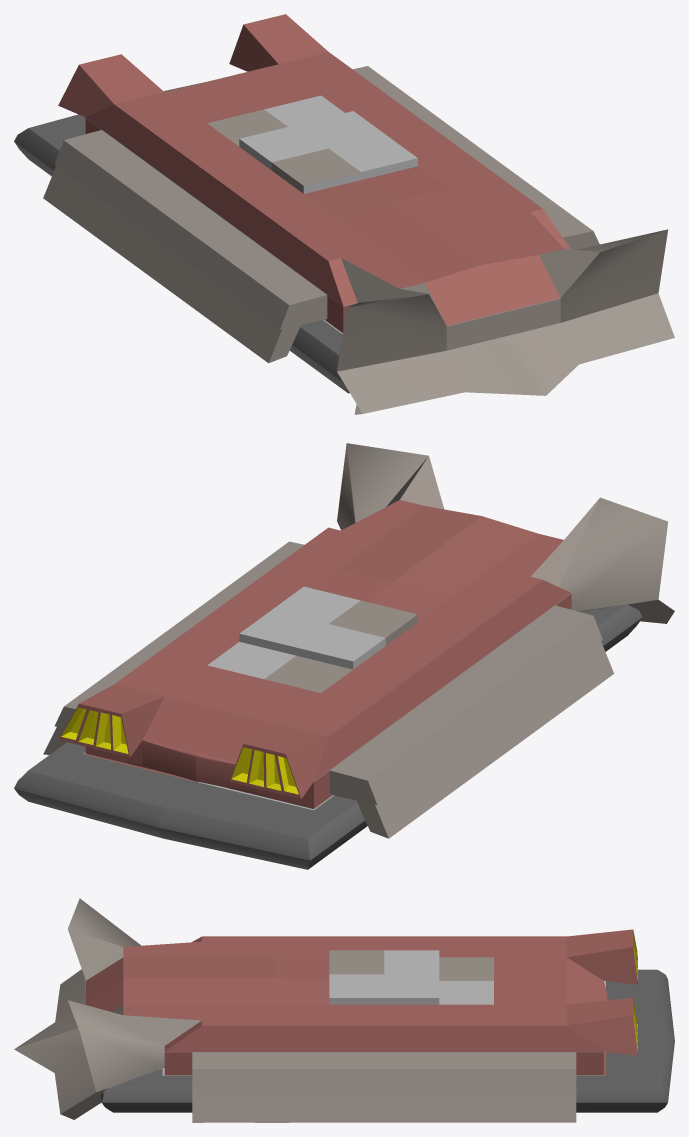
File: enemytank.fbx
The picture shows the model from 3 angles, top to bottom: view 1: azimuth 30°, elevation 25°; view 2: azimuth 150°, elevation 25°; view 3: azimuth 270°, elevation 25°; orthographic projection. The views are drawn at different scales.
Parts seen in each view (by area): view 1: enemyBasicTank; view 2: enemyBasicTank; view 3: enemyBasicTank.
Boxes of the visible parts, <box> form: enemyBasicTank: <box>14,14,674,414</box>; enemyBasicTank: <box>14,443,674,869</box>; enemyBasicTank: <box>14,898,674,1122</box>.
Size of the model in its own units: 4.73 by 1.39 by 9.19.
